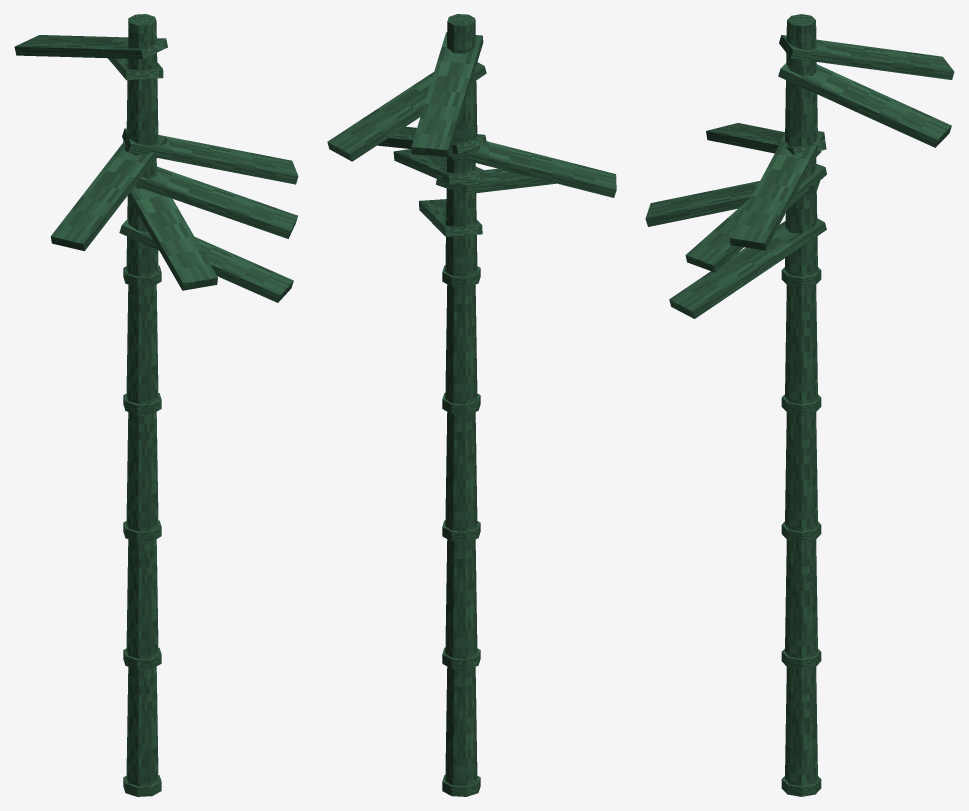
Rendered from bamboo_22.glb.
3 views of the same model, side by side, from view 1: azimuth 30°, elevation 25°; view 2: azimuth 150°, elevation 25°; view 3: azimuth 270°, elevation 25° (orthographic).
Visible parts, largest first — view 1: Leaf.005, Leaf.003, Leaf.001, Leaf, Stem.001, Stem.002, Stem.003, Stem, Stem.005, Leaf.004, Leaf.006, Stem.004 (+1 smaller); view 2: Leaf.006, Leaf.005, Stem.001, Stem.002, Stem, Stem.003, Leaf.002, Stem.004, Stem.005, Leaf.003, Leaf.001, Leaf.004 (+1 smaller); view 3: Leaf.002, Leaf, Leaf.004, Stem.002, Stem.001, Stem, Stem.003, Leaf.006, Stem.005, Leaf.003, Leaf.001, Stem.004 (+1 smaller).
Part boxes in pixels (<box>): Leaf.005: <box>50,135,167,251</box>; Leaf.003: <box>127,187,217,290</box>; Leaf.001: <box>135,166,297,238</box>; Leaf: <box>122,128,298,184</box>; Stem.001: <box>126,539,158,658</box>; Stem.002: <box>126,412,158,531</box>; Stem.003: <box>126,284,158,403</box>; Stem: <box>126,666,158,786</box>; Stem.005: <box>126,14,158,146</box>; Leaf.004: <box>119,219,293,302</box>; Leaf.006: <box>14,35,167,59</box>; Stem.004: <box>126,158,158,276</box>; Leaf.006: <box>411,32,483,157</box>; Leaf.005: <box>449,141,616,197</box>; Stem.001: <box>445,539,477,658</box>; Stem.002: <box>445,412,477,531</box>; Stem: <box>445,666,477,786</box>; Stem.003: <box>445,284,477,403</box>; Leaf.002: <box>327,62,486,161</box>; Stem.004: <box>445,157,477,276</box>; Stem.005: <box>447,14,477,143</box>; Leaf.003: <box>436,168,556,194</box>; Leaf.001: <box>393,149,484,184</box>; Leaf.004: <box>419,199,482,236</box>; Leaf.002: <box>778,63,951,147</box>; Leaf: <box>729,131,824,250</box>; Leaf.004: <box>669,218,826,318</box>; Stem.002: <box>785,412,817,531</box>; Stem.001: <box>785,539,817,658</box>; Stem: <box>785,667,817,785</box>; Stem.003: <box>785,285,817,404</box>; Leaf.006: <box>779,35,954,79</box>; Stem.005: <box>785,14,817,146</box>; Leaf.003: <box>645,181,819,226</box>; Leaf.001: <box>685,164,826,272</box>; Stem.004: <box>785,157,817,276</box>.
Bounding box in the file's own units: 1.41 × 4.08 × 1.49.
Materials: 1 (1 with a texture image).
